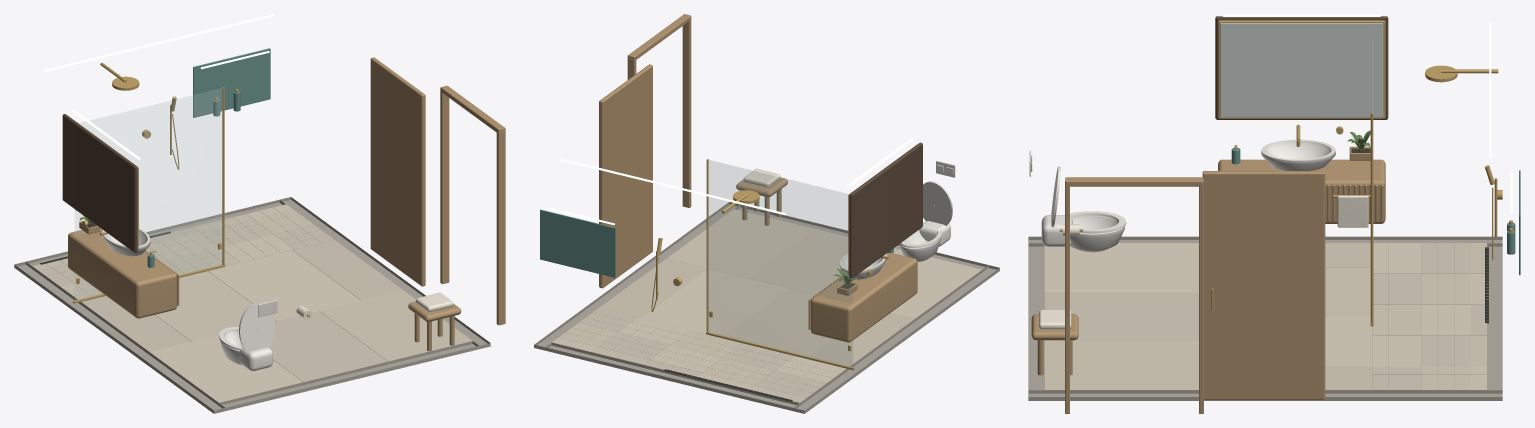
File: detail-bath-living.glb
3 views of the same model, side by side, from view 1: azimuth 30°, elevation 25°; view 2: azimuth 150°, elevation 25°; view 3: azimuth 270°, elevation 25° (orthographic). The views are drawn at different scales.
Visible parts, largest first — view 1: bath-living__pale oak, bath-living__bathroom clear shower glass, bath-living__bathroom honed travertine oat, bath-living__bathroom honed travertine ivory, bath-living__bathroom honed travertine sand, bath-living__bathroom warm mineral grout, bath-living__honey ash, bath-living__bathroom celadon ceramic, bath-living__bathroom porcelain glaze, bath-living__brushed brass, bath-living__bathroom warm diffuser, bath-living__linen; view 2: bath-living__bathroom clear shower glass, bath-living__pale oak, bath-living__bathroom honed travertine oat, bath-living__bathroom honed travertine sand, bath-living__bathroom honed travertine ivory, bath-living__bathroom warm mineral grout, bath-living__honey ash, bath-living__bathroom celadon ceramic, bath-living__bathroom porcelain glaze, bath-living__brushed brass, bath-living__bathroom warm diffuser, bath-living__linen; view 3: bath-living__pale oak, bath-living__bathroom satin mirror, bath-living__bathroom honed travertine oat, bath-living__bathroom honed travertine sand, bath-living__bathroom honed travertine ivory, bath-living__bathroom warm mineral grout, bath-living__bathroom porcelain glaze, bath-living__brushed brass, bath-living__linen, bath-living__honey ash, bath-living__bathroom warm diffuser, bath-living__bathroom celadon ceramic.
Boxes of the visible parts, bbox=[...] form: bath-living__pale oak: bbox=[68, 57, 505, 351]; bath-living__bathroom clear shower glass: bbox=[75, 88, 222, 300]; bath-living__bathroom honed travertine oat: bbox=[39, 219, 402, 382]; bath-living__bathroom honed travertine ivory: bbox=[60, 204, 360, 402]; bath-living__bathroom honed travertine sand: bbox=[32, 209, 472, 361]; bath-living__bathroom warm mineral grout: bbox=[14, 197, 490, 413]; bath-living__honey ash: bbox=[62, 114, 137, 252]; bath-living__bathroom celadon ceramic: bbox=[147, 48, 270, 267]; bath-living__bathroom porcelain glaze: bbox=[102, 228, 275, 371]; bath-living__brushed brass: bbox=[42, 62, 309, 317]; bath-living__bathroom warm diffuser: bbox=[43, 14, 274, 159]; bath-living__linen: bbox=[296, 292, 453, 319]; bath-living__bathroom clear shower glass: bbox=[708, 160, 852, 367]; bath-living__pale oak: bbox=[599, 14, 917, 342]; bath-living__bathroom honed travertine oat: bbox=[579, 229, 914, 397]; bath-living__bathroom honed travertine sand: bbox=[559, 209, 832, 402]; bath-living__bathroom honed travertine ivory: bbox=[552, 249, 981, 389]; bath-living__bathroom warm mineral grout: bbox=[534, 202, 999, 413]; bath-living__honey ash: bbox=[849, 142, 922, 278]; bath-living__bathroom celadon ceramic: bbox=[540, 209, 893, 277]; bath-living__bathroom porcelain glaze: bbox=[839, 181, 952, 279]; bath-living__brushed brass: bbox=[651, 145, 915, 400]; bath-living__bathroom warm diffuser: bbox=[547, 138, 913, 225]; bath-living__linen: bbox=[743, 168, 780, 187]; bath-living__pale oak: bbox=[1031, 159, 1385, 413]; bath-living__bathroom satin mirror: bbox=[1220, 23, 1383, 117]; bath-living__bathroom honed travertine oat: bbox=[1044, 243, 1486, 390]; bath-living__bathroom honed travertine sand: bbox=[1044, 243, 1486, 390]; bath-living__bathroom honed travertine ivory: bbox=[1044, 243, 1486, 390]; bath-living__bathroom warm mineral grout: bbox=[1028, 236, 1502, 400]; bath-living__bathroom porcelain glaze: bbox=[1041, 139, 1335, 252]; bath-living__brushed brass: bbox=[1059, 20, 1512, 326]; bath-living__linen: bbox=[1039, 195, 1368, 329]; bath-living__honey ash: bbox=[1215, 16, 1388, 119]; bath-living__bathroom warm diffuser: bbox=[1222, 14, 1512, 212]; bath-living__bathroom celadon ceramic: bbox=[1231, 147, 1520, 275].
Size of the model in its own units: 3.78 by 2.35 by 4.41.
